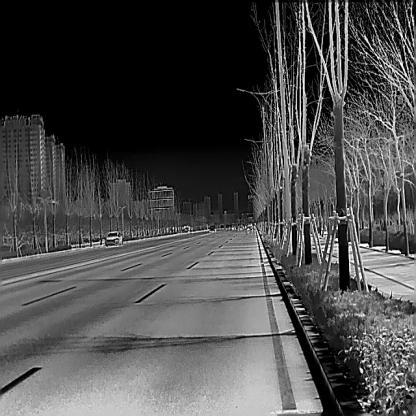car: (105, 230, 122, 246), (209, 225, 216, 232)
